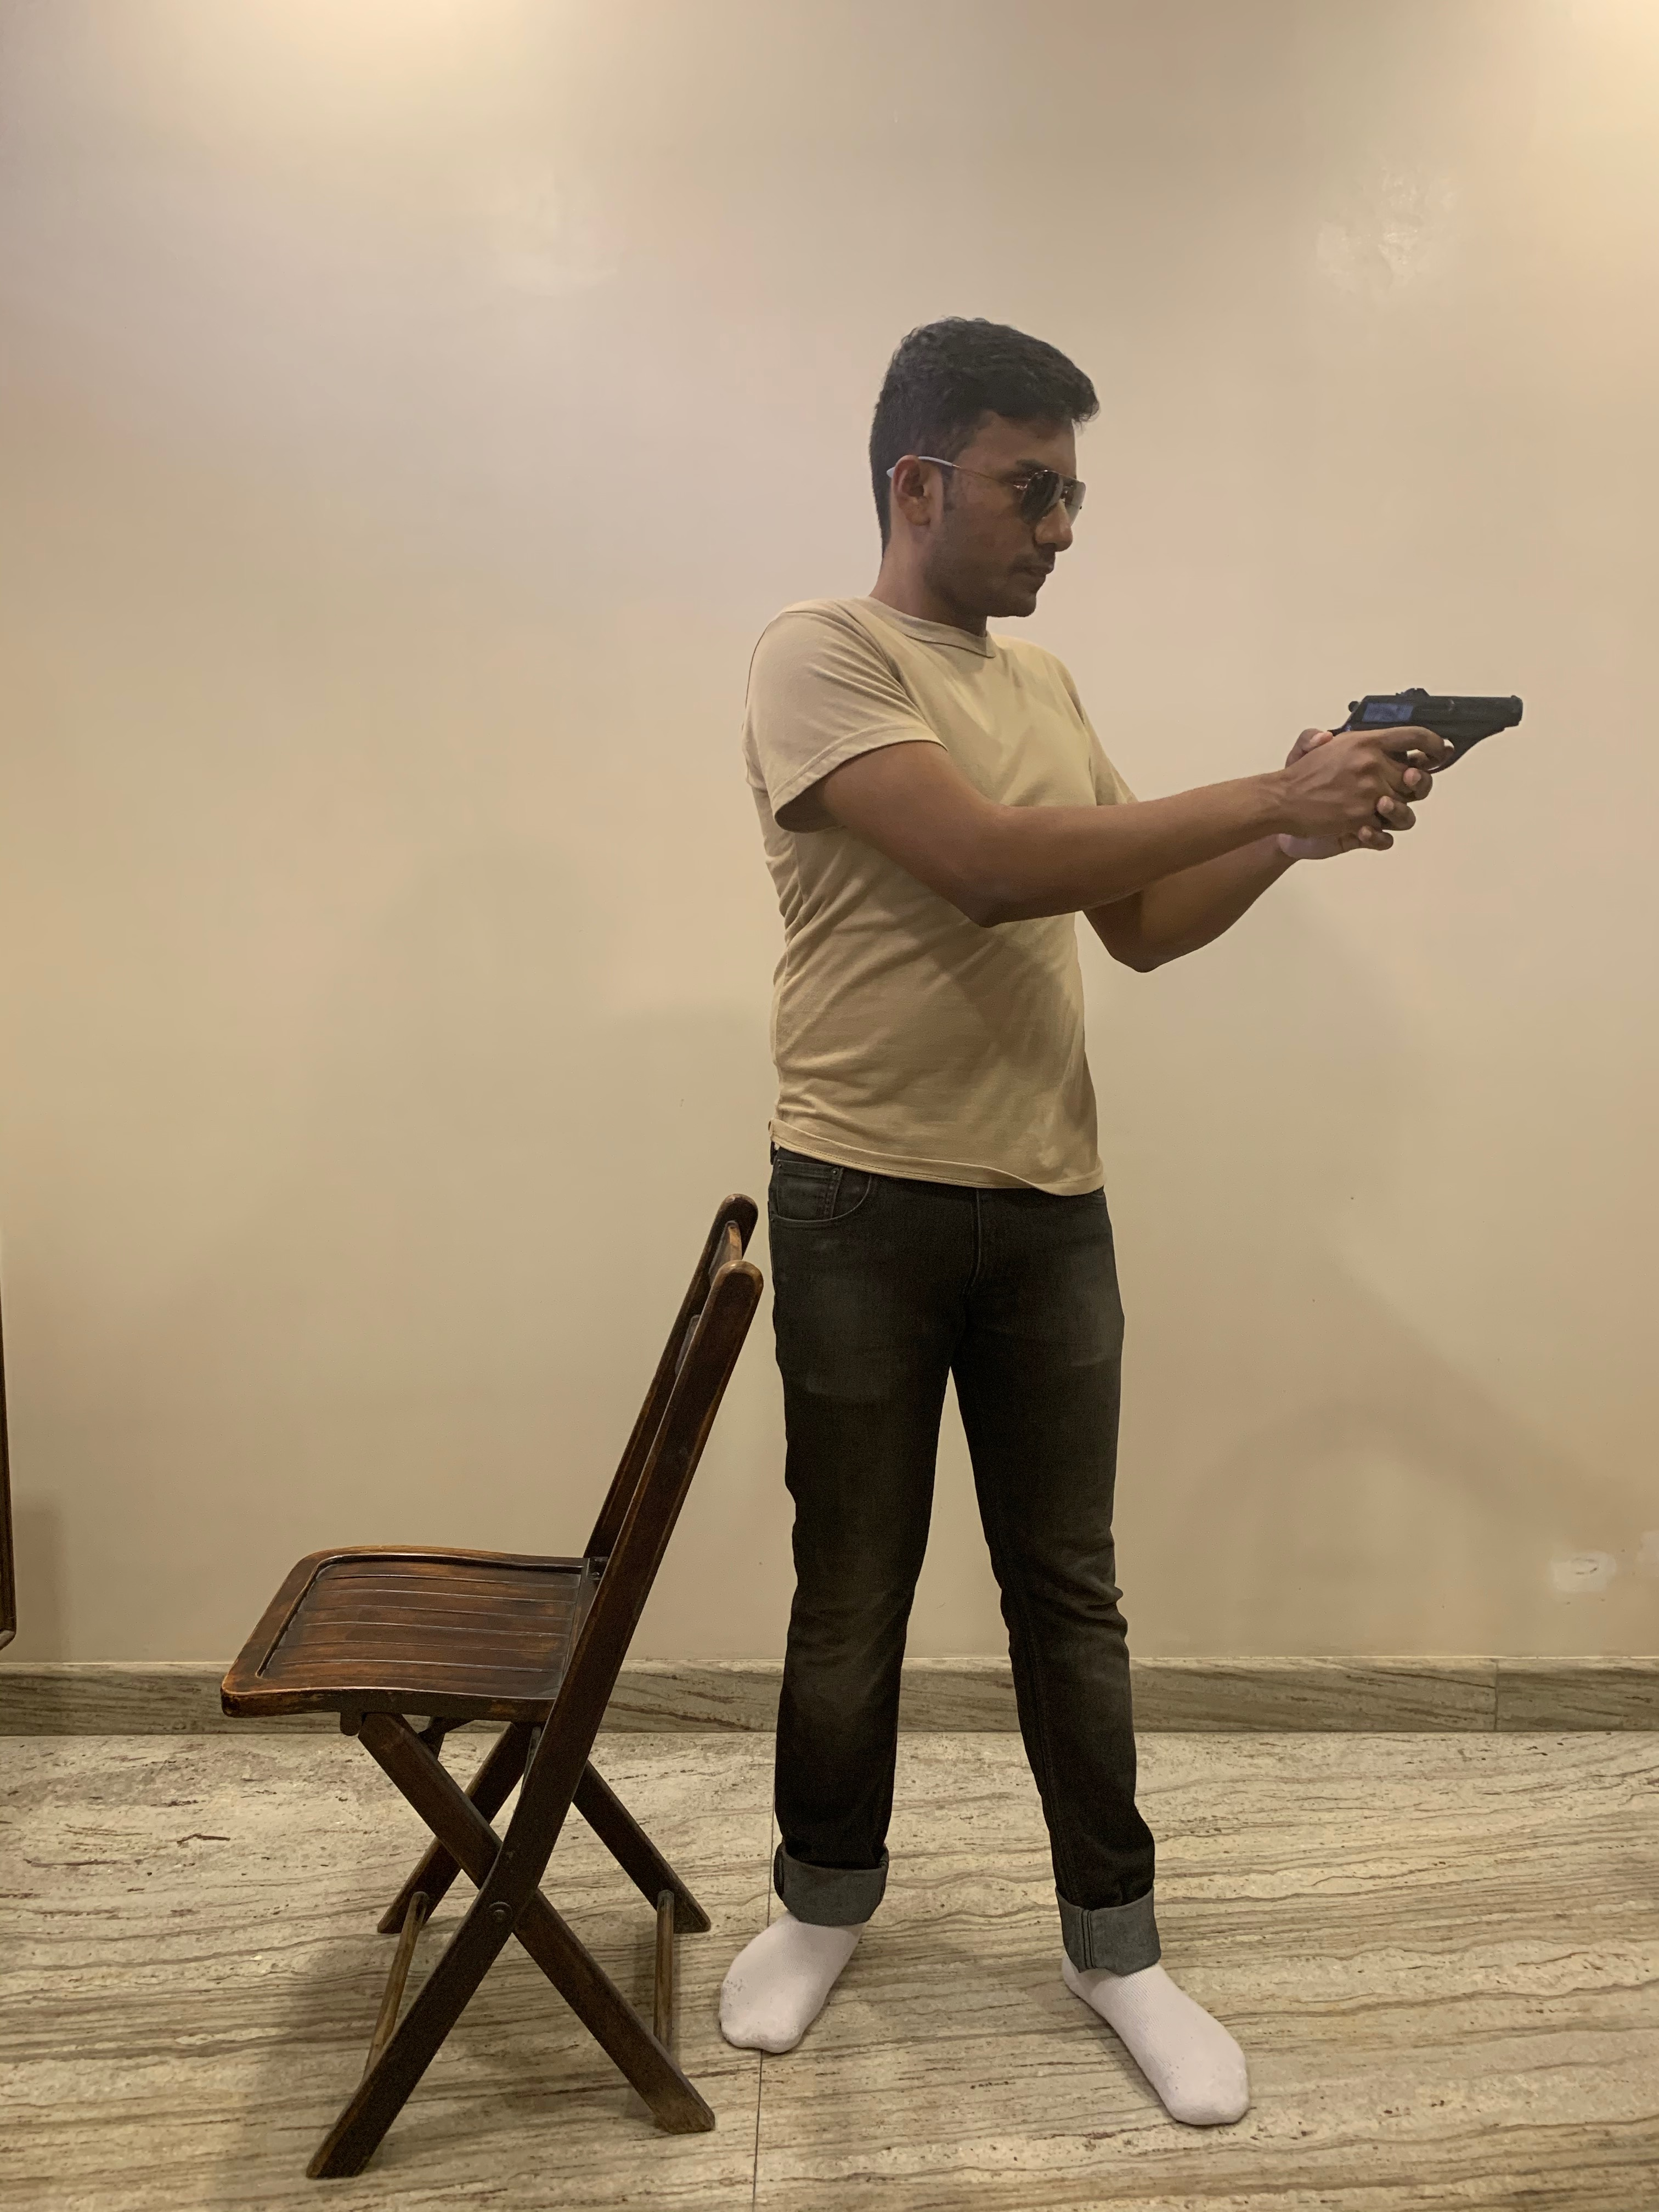gun: (1338, 681, 1530, 806)
